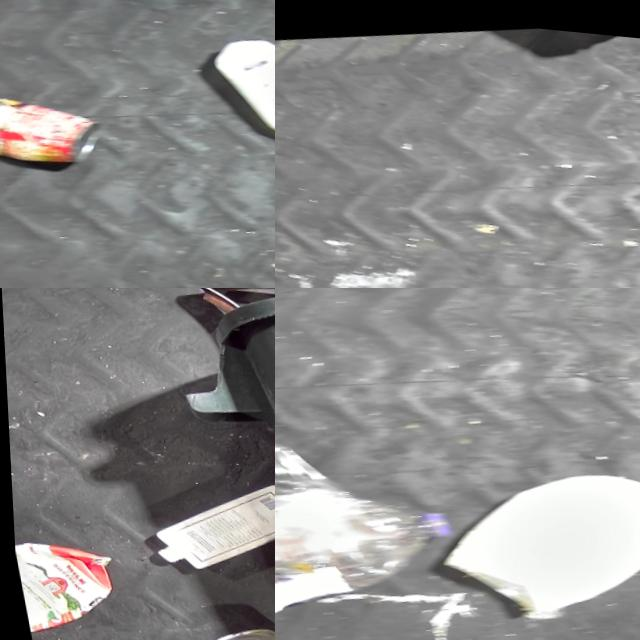can: (0, 73, 104, 174)
milk_jug: (423, 435, 640, 635), (136, 463, 275, 581), (207, 11, 275, 173)
non_white_jug: (10, 530, 125, 640)
plastic_bottle: (275, 455, 465, 640), (275, 410, 340, 514)
